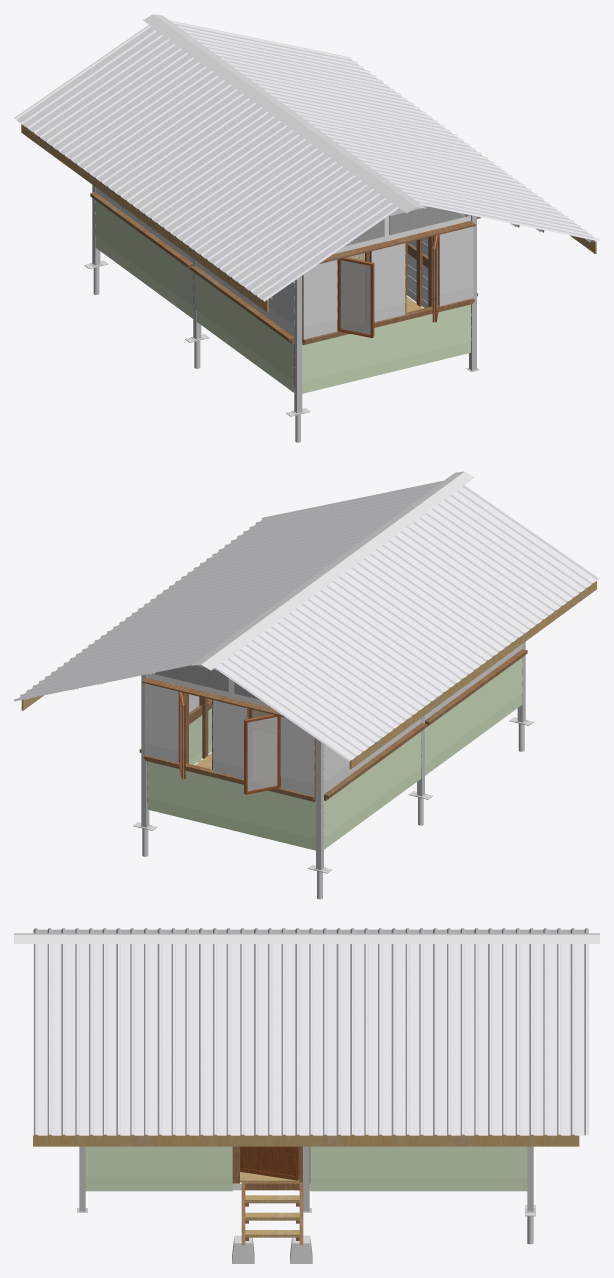
Rendered from 2 Module - Green (centered).glb.
The picture shows the model from 3 angles, top to bottom: view 1: azimuth 30°, elevation 25°; view 2: azimuth 150°, elevation 25°; view 3: azimuth 270°, elevation 25°; orthographic projection. The views are drawn at different scales.
Visible parts, largest first — view 1: Geom3D_Component#136.005, Geom3D_Component#136.001, Geom3D_Component#136.008, Geom3D_Component#136, Geom3D_Component#136.010, Geom3D_Component#136.009, Geom3D_Component#136.004, Geom3D_Component#136.003, Geom3D_Component#136.006, Geom3D_Component#136.002, Geom3D_Component#129.002, Geom3D_Component#129.007 (+36 smaller); view 2: Geom3D_Component#136.008, Geom3D_Component#136.003, Geom3D_Component#136.001, Geom3D_Component#136.005, Geom3D_Component#136.004, Geom3D_Component#136.002, Geom3D_Component#136, Geom3D_Component#136.010, Geom3D_Component#136.009, Geom3D_Component#136.006, Geom3D_Component#129, Geom3D_Component#129.009 (+36 smaller); view 3: Geom3D_Component#129.003, Geom3D_Component#129.007, Geom3D_Component#129.002, Geom3D_Component#129, Geom3D_Component#129.009, Geom3D_Component#129.004, Geom3D_Component#129.008, Geom3D_Component#129.001, Geom3D_Component#129.005, Geom3D_Component#129.006, Geom3D_Purlin Cover 1#2.001, Geom3D.846 (+21 smaller).
Part boxes in pixels (x1,y1,x2,y2): Geom3D_Component#136.005: [14, 25, 175, 138]; Geom3D_Component#136.001: [113, 97, 275, 210]; Geom3D_Component#136.008: [188, 152, 349, 265]; Geom3D_Component#136: [138, 116, 299, 228]; Geom3D_Component#136.010: [237, 189, 399, 301]; Geom3D_Component#136.009: [213, 172, 374, 283]; Geom3D_Component#136.004: [89, 79, 247, 191]; Geom3D_Component#136.003: [41, 45, 200, 156]; Geom3D_Component#136.006: [165, 135, 324, 246]; Geom3D_Component#136.002: [65, 62, 222, 172]; Geom3D_Component#129.002: [170, 20, 376, 77]; Geom3D_Component#129.007: [344, 147, 549, 204]; Geom3D_Component#136.008: [388, 521, 549, 634]; Geom3D_Component#136.003: [239, 630, 401, 743]; Geom3D_Component#136.001: [314, 576, 475, 688]; Geom3D_Component#136.005: [214, 648, 376, 761]; Geom3D_Component#136.004: [289, 595, 449, 706]; Geom3D_Component#136.002: [264, 612, 424, 724]; Geom3D_Component#136: [341, 557, 499, 670]; Geom3D_Component#136.010: [440, 485, 599, 596]; Geom3D_Component#136.009: [415, 503, 574, 614]; Geom3D_Component#136.006: [366, 541, 522, 650]; Geom3D_Component#129: [138, 553, 343, 610]; Geom3D_Component#129.009: [237, 480, 443, 537]; Geom3D_Component#129.003: [308, 944, 368, 1135]; Geom3D_Component#129.007: [143, 944, 203, 1135]; Geom3D_Component#129.002: [528, 944, 588, 1135]; Geom3D_Component#129: [253, 944, 313, 1135]; Geom3D_Component#129.009: [33, 944, 93, 1135]; Geom3D_Component#129.004: [418, 944, 478, 1135]; Geom3D_Component#129.008: [88, 944, 145, 1135]; Geom3D_Component#129.001: [473, 944, 533, 1135]; Geom3D_Component#129.005: [364, 944, 423, 1135]; Geom3D_Component#129.006: [199, 944, 255, 1135]; Geom3D_Purlin Cover 1#2.001: [257, 1134, 579, 1146]; Geom3D.846: [310, 1151, 527, 1164].
Size of the model in its own units: 5.97 by 3.99 by 8.11.
17 materials, 10 textured.
